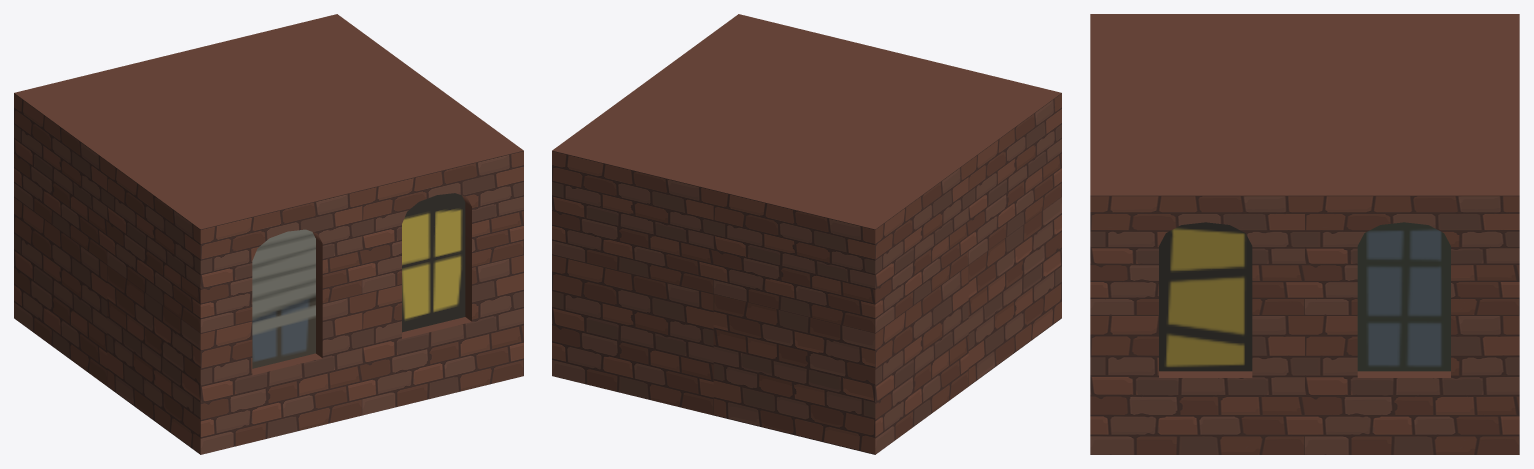
File: Bock_B4.fbx
3 views of the same model, side by side, from view 1: azimuth 30°, elevation 25°; view 2: azimuth 150°, elevation 25°; view 3: azimuth 270°, elevation 25° (orthographic). The views are drawn at different scales.
Parts seen in each view (by area): view 1: Bock_B4; view 2: Bock_B4; view 3: Bock_B4.
Boxes of the visible parts, <box> form: Bock_B4: <box>14,14,523,454</box>; Bock_B4: <box>552,14,1061,454</box>; Bock_B4: <box>1090,14,1519,454</box>.
Size of the model in its own units: 600 by 400 by 600.
